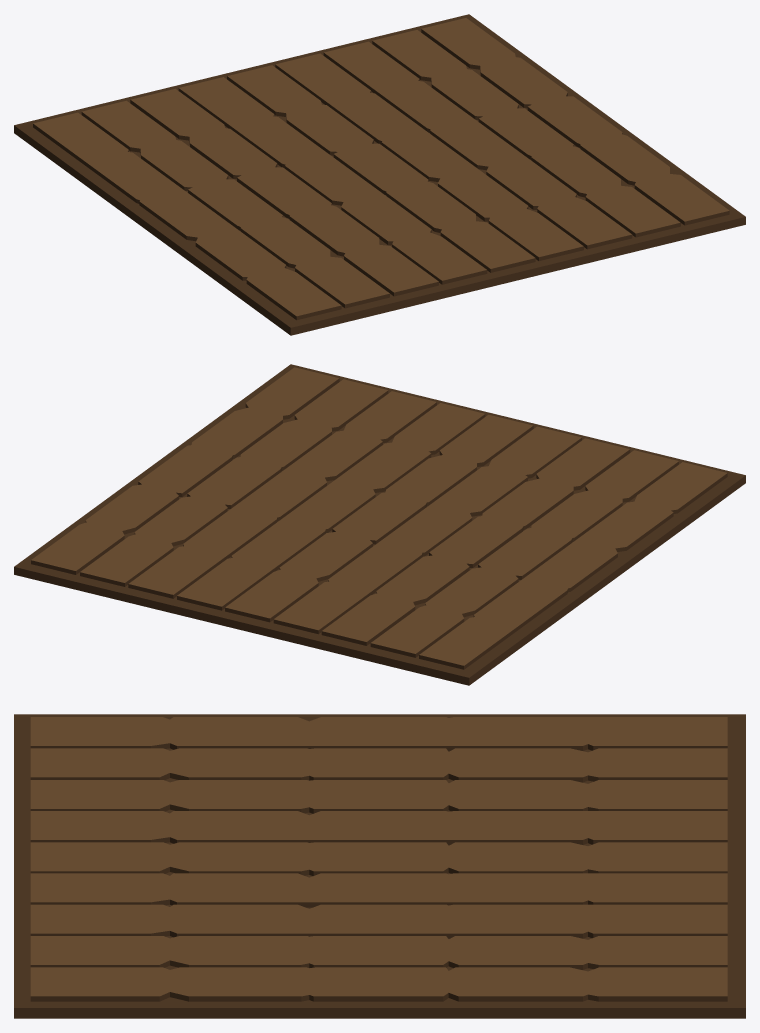
Rendered from floor.glb.
3 views of the same model, one above another, from view 1: azimuth 30°, elevation 25°; view 2: azimuth 150°, elevation 25°; view 3: azimuth 270°, elevation 25° (orthographic). The views are drawn at different scales.
Visible parts, largest first — view 1: Cube; view 2: Cube; view 3: Cube.
Boxes of the visible parts, bbox=[...] form: Cube: bbox=[14, 14, 745, 335]; Cube: bbox=[14, 364, 745, 685]; Cube: bbox=[14, 714, 745, 1018].
Bounding box in the file's own units: 538 × 18.59 × 567.
1 material, 1 textured.
